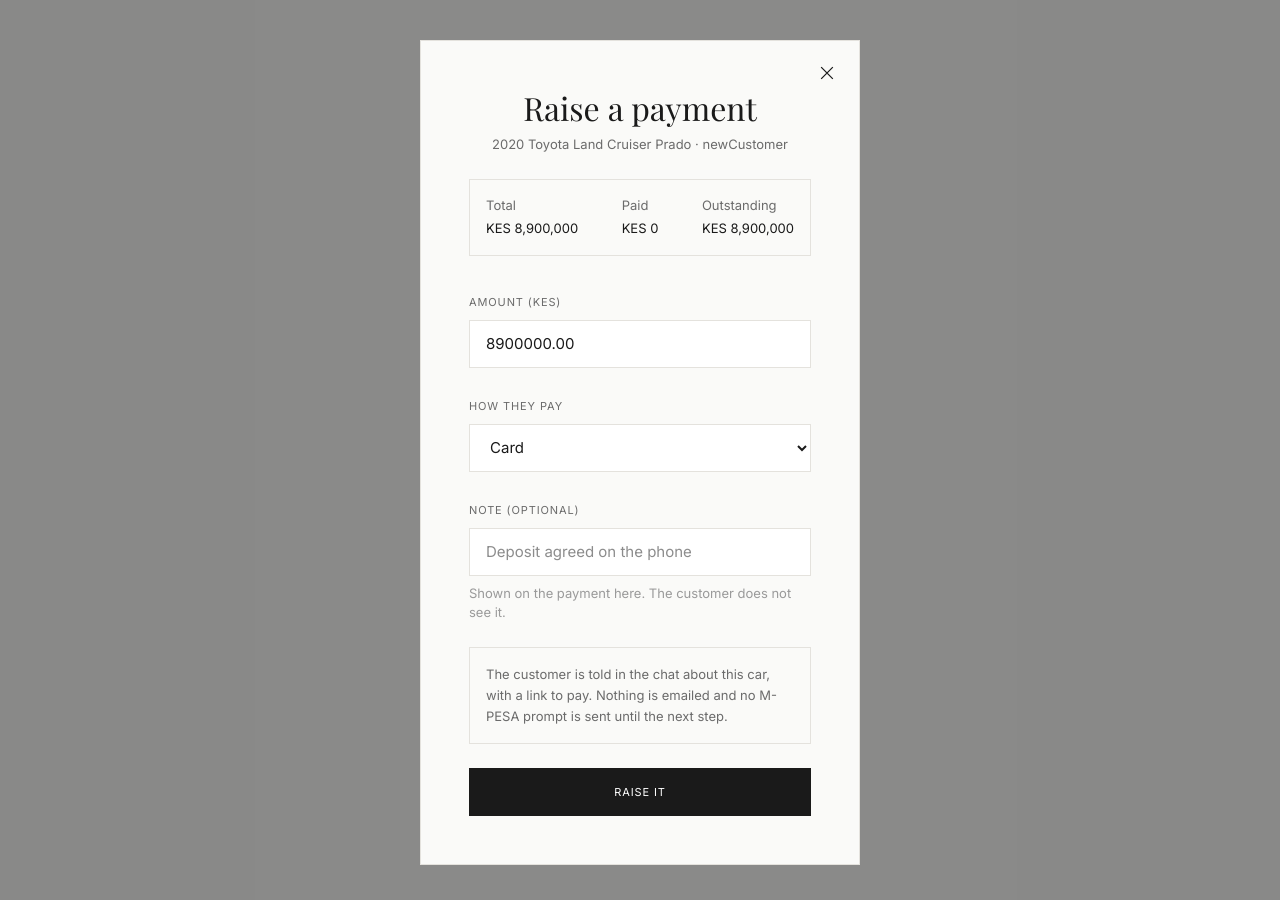
Test case: after it is raised › does not offer to send anything for a bank transfer
Check: the number field labelled "Amount (KES)" holds "8900000", box [469,320,811,368]
Click the button "Raise it": (640, 792) [469,768,811,816]
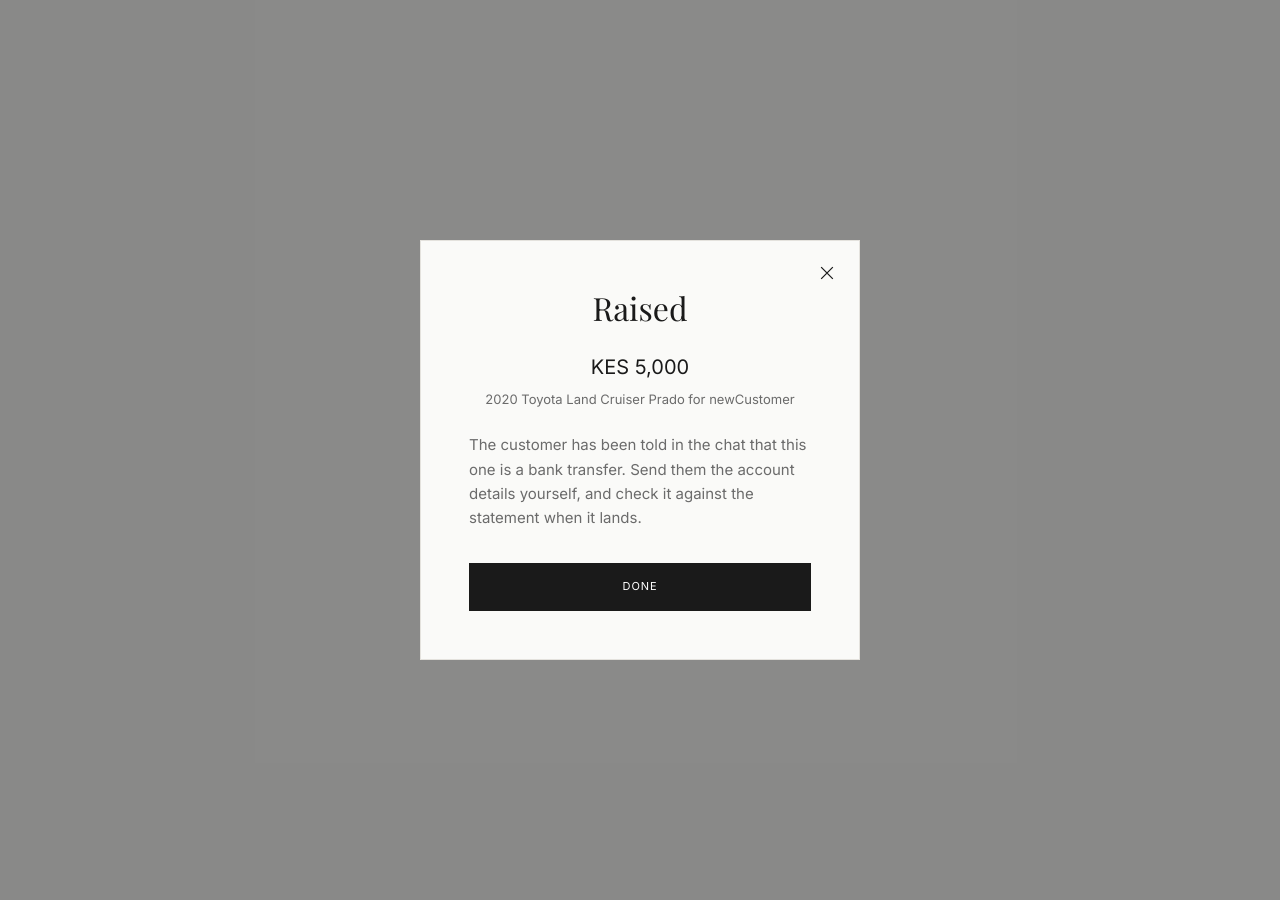
Check: the text "bank transfer" is shown, box [469,435,806,527]
